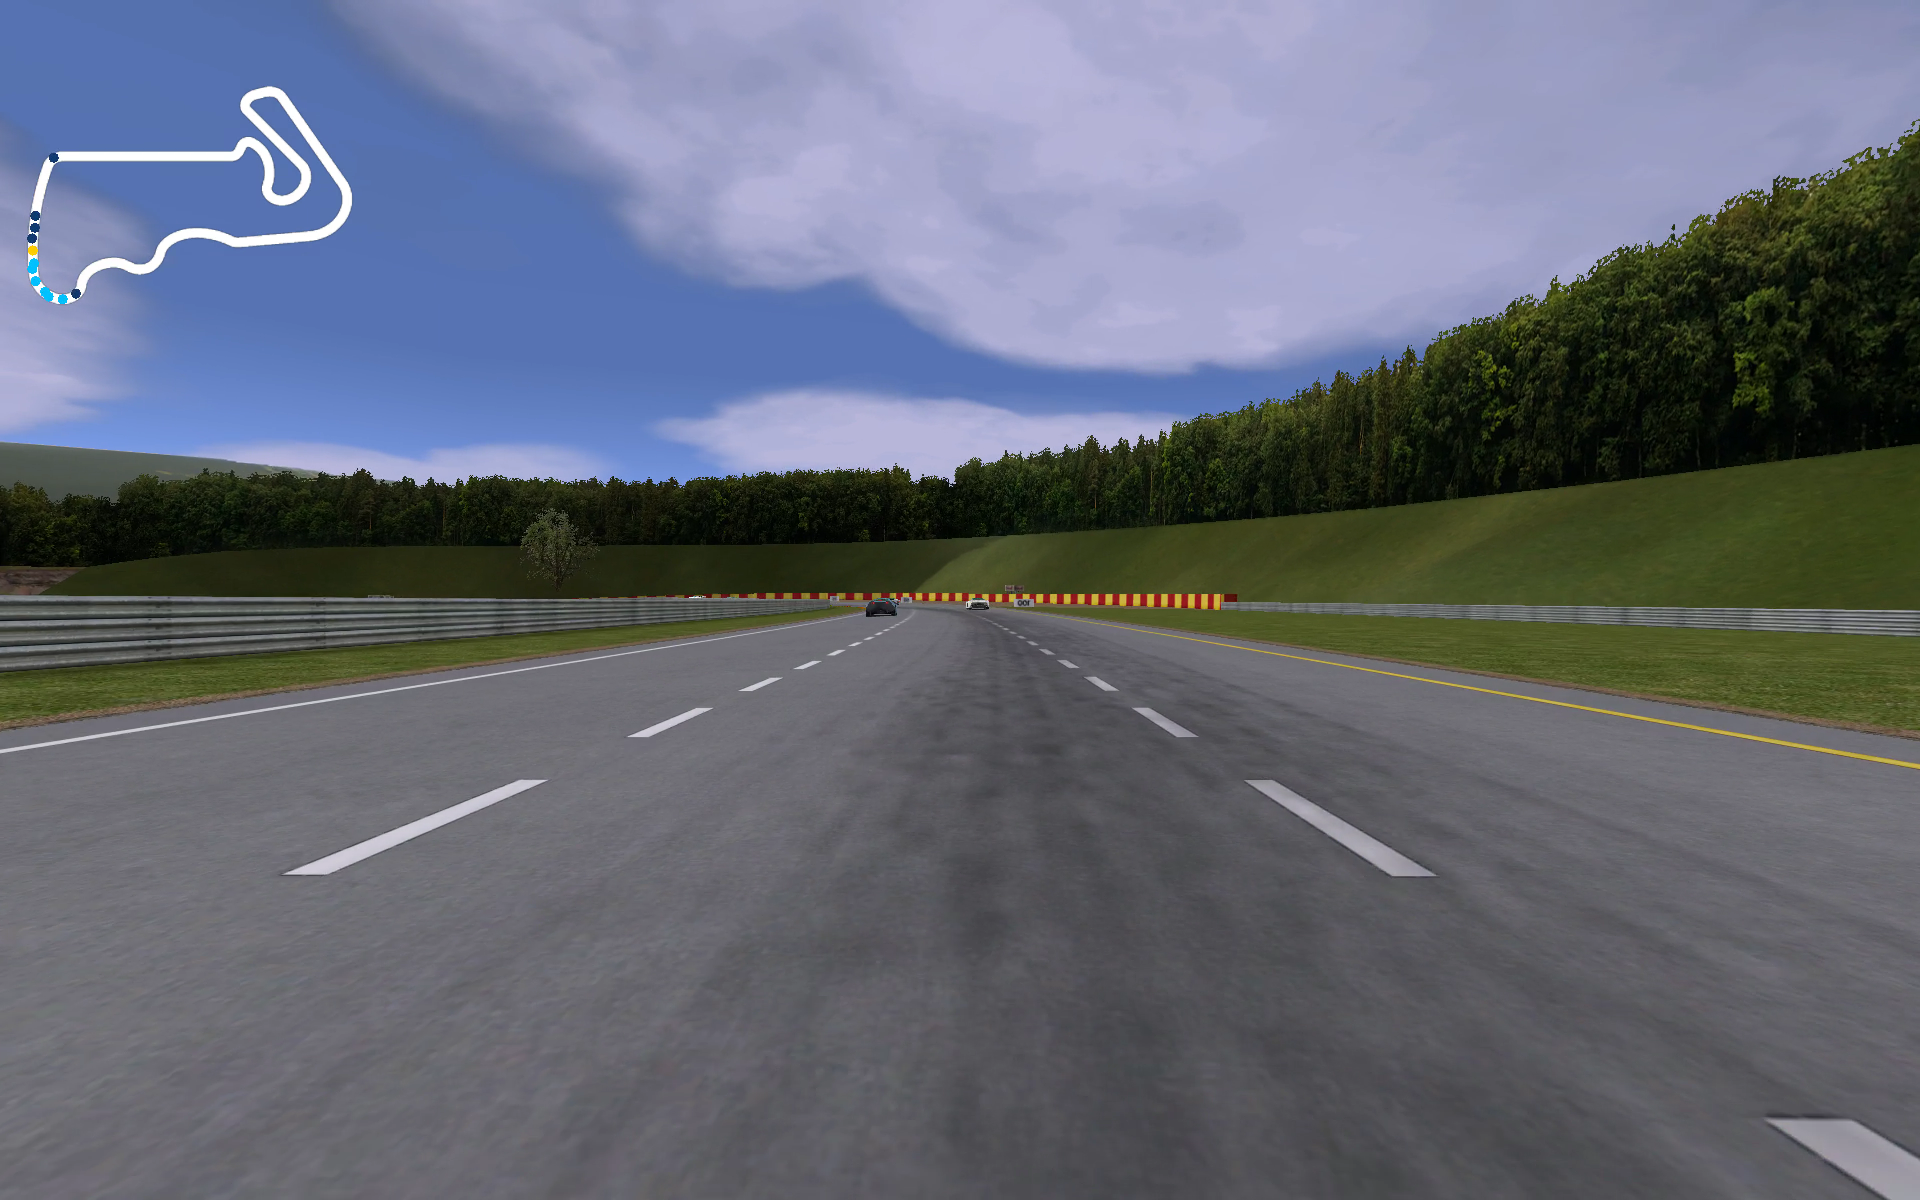car: (863, 597, 898, 615), (963, 594, 994, 612)
